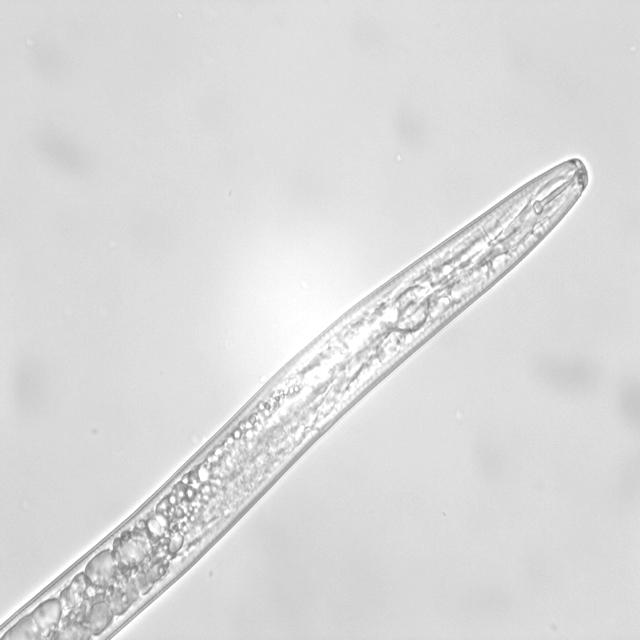Pratylenchus: (0, 154, 595, 639)
